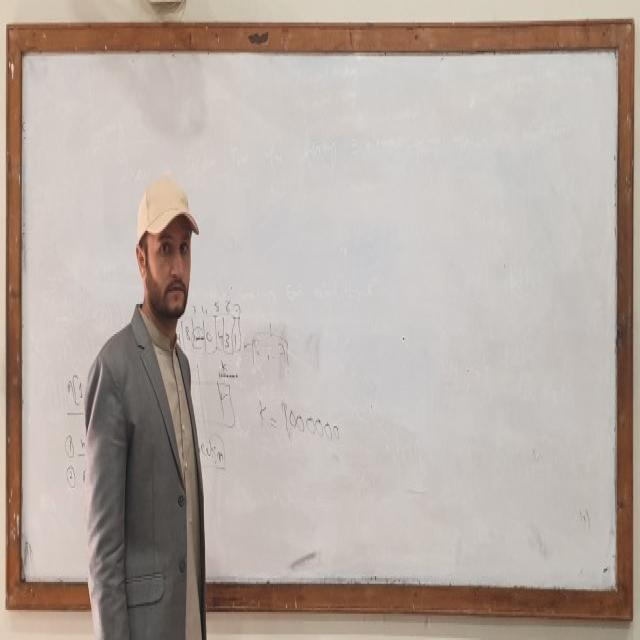Instructor: (87, 174, 209, 640)
White-board: (13, 32, 630, 608)
